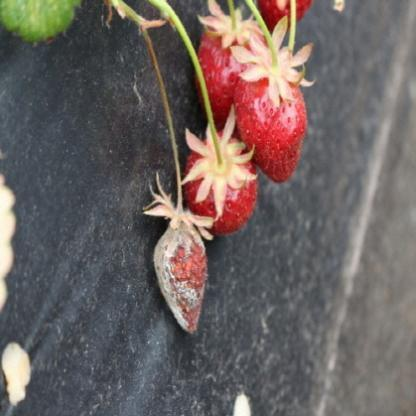Strawberry_Gray_Mold: (144, 178, 214, 334)
